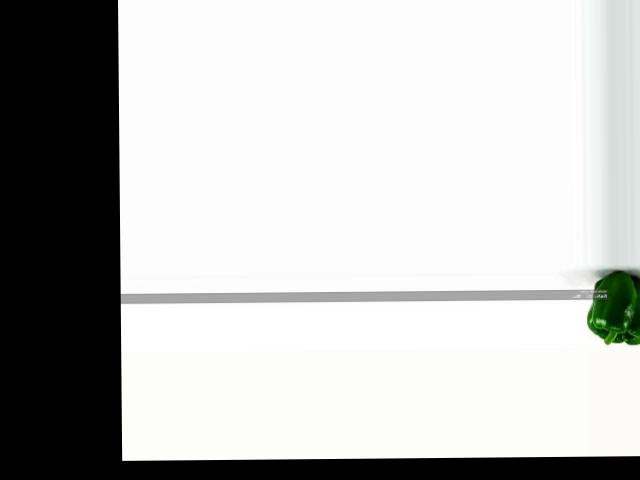bell_pepper: (587, 268, 640, 349)
